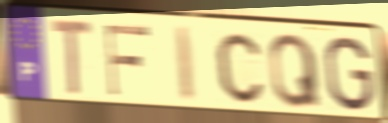C: (214, 30, 266, 106)
F: (104, 23, 152, 99)
G: (322, 34, 377, 114)
I: (173, 25, 197, 105)
Q: (267, 31, 323, 111)
T: (48, 16, 95, 100)
